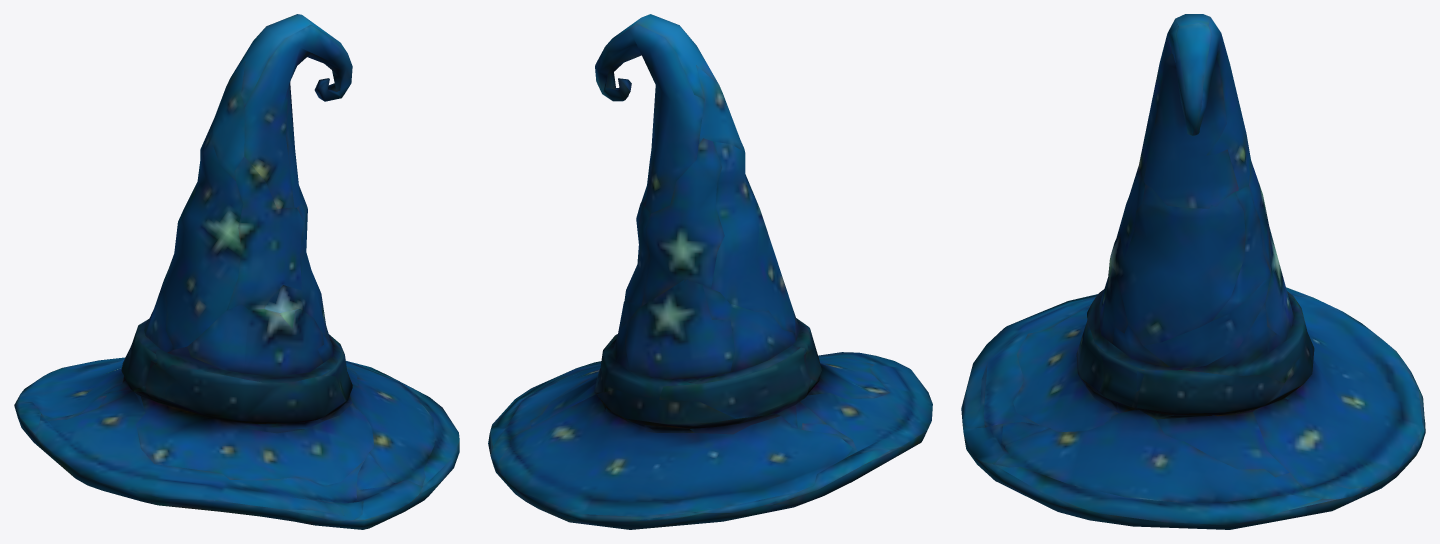
The picture shows the model from 3 angles, left to right: view 1: azimuth 30°, elevation 25°; view 2: azimuth 150°, elevation 25°; view 3: azimuth 270°, elevation 25°; orthographic projection. The views are drawn at different scales.
Visible parts, largest first — view 1: material; view 2: material; view 3: material.
Part boxes in pixels (box(x1,y1,x2,y2)): material: box(14, 14, 459, 529); material: box(488, 14, 932, 529); material: box(961, 14, 1425, 529).
Bounding box in the file's own units: 0.7359 × 0.7702 × 0.7244.
1 material, 1 textured.
